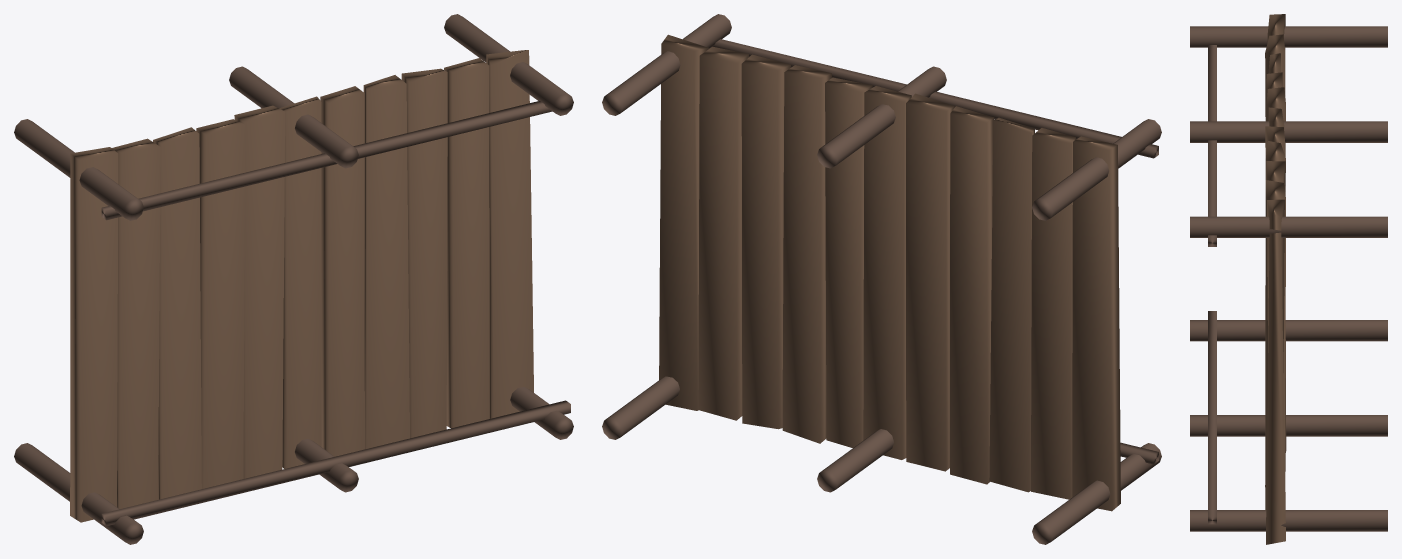
Rendered from waterfront_dock_hd.glb.
The picture shows the model from 3 angles, left to right: view 1: azimuth 30°, elevation 25°; view 2: azimuth 150°, elevation 25°; view 3: azimuth 270°, elevation 25°; orthographic projection. The views are drawn at different scales.
Size of the model in its own units: 5.4 by 4.06 by 2.2.
